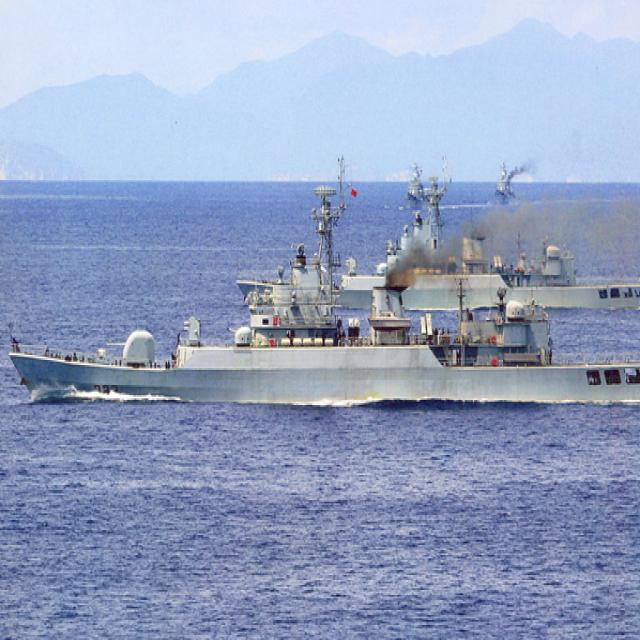navalvessels: (11, 198, 640, 408), (333, 185, 640, 315), (406, 155, 451, 209), (490, 157, 520, 203)
